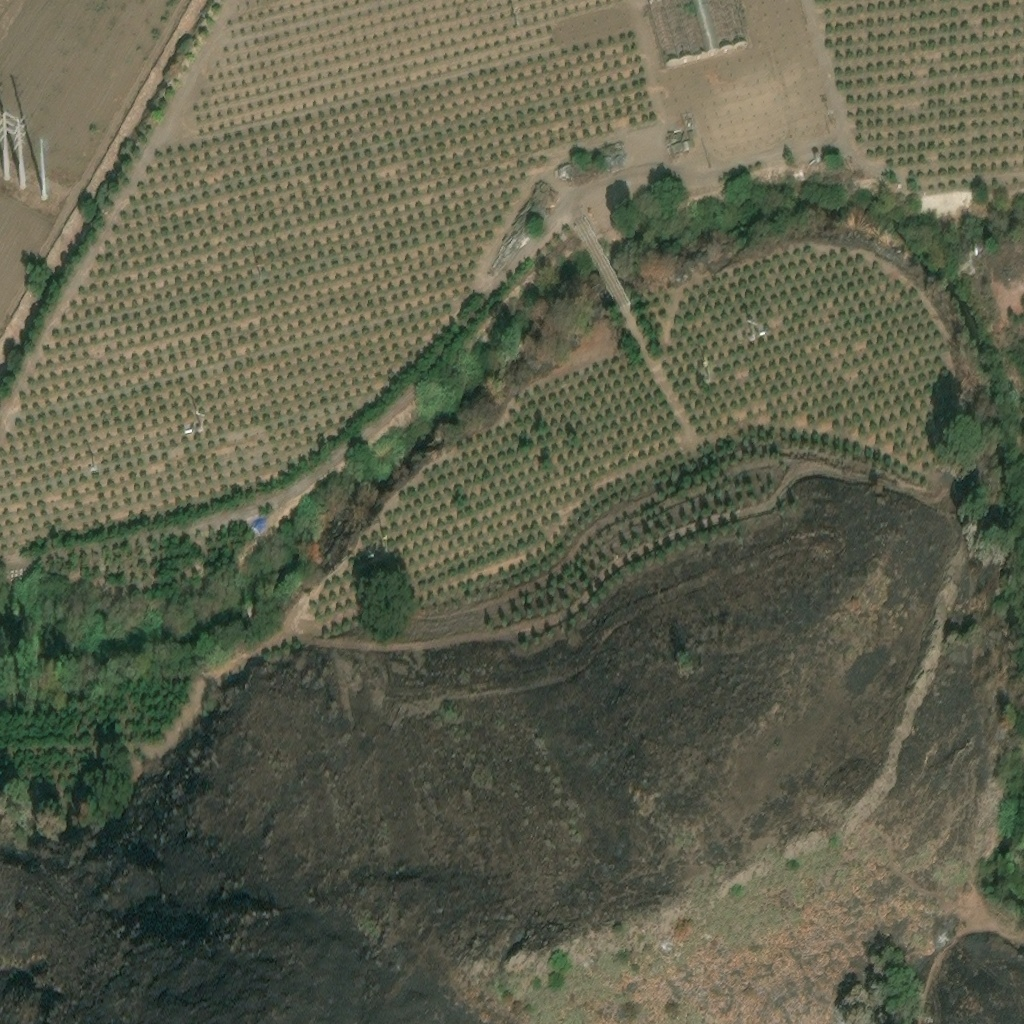3 destroyed: (553, 157, 586, 182), (669, 140, 691, 157)
